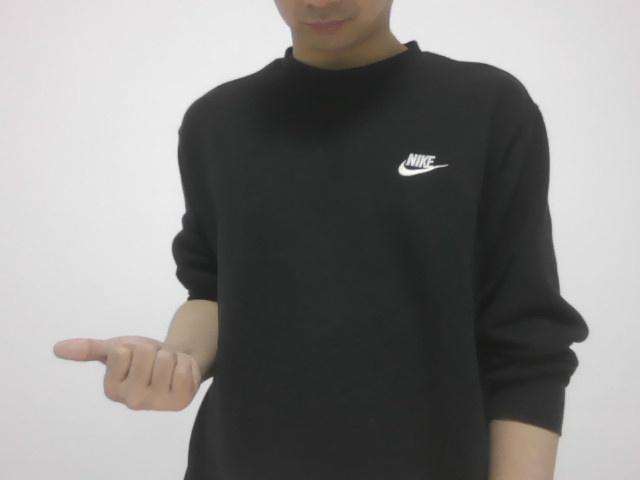have: (27, 321, 209, 415)
